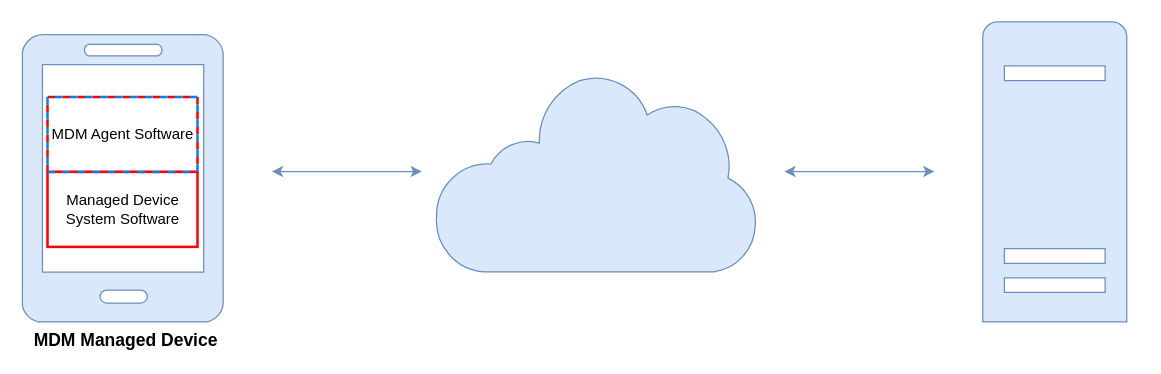
The diagram is 1161 pixels wide and 374 high, and some of its shapes have lost their labels. Each missing label, with the box of its shape:
MDM Server System: (982, 21, 1127, 322)
Untrusted Network: (433, 71, 757, 272)
